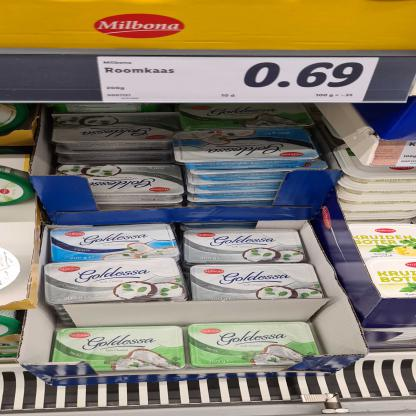prtg: (99, 58, 382, 104)
